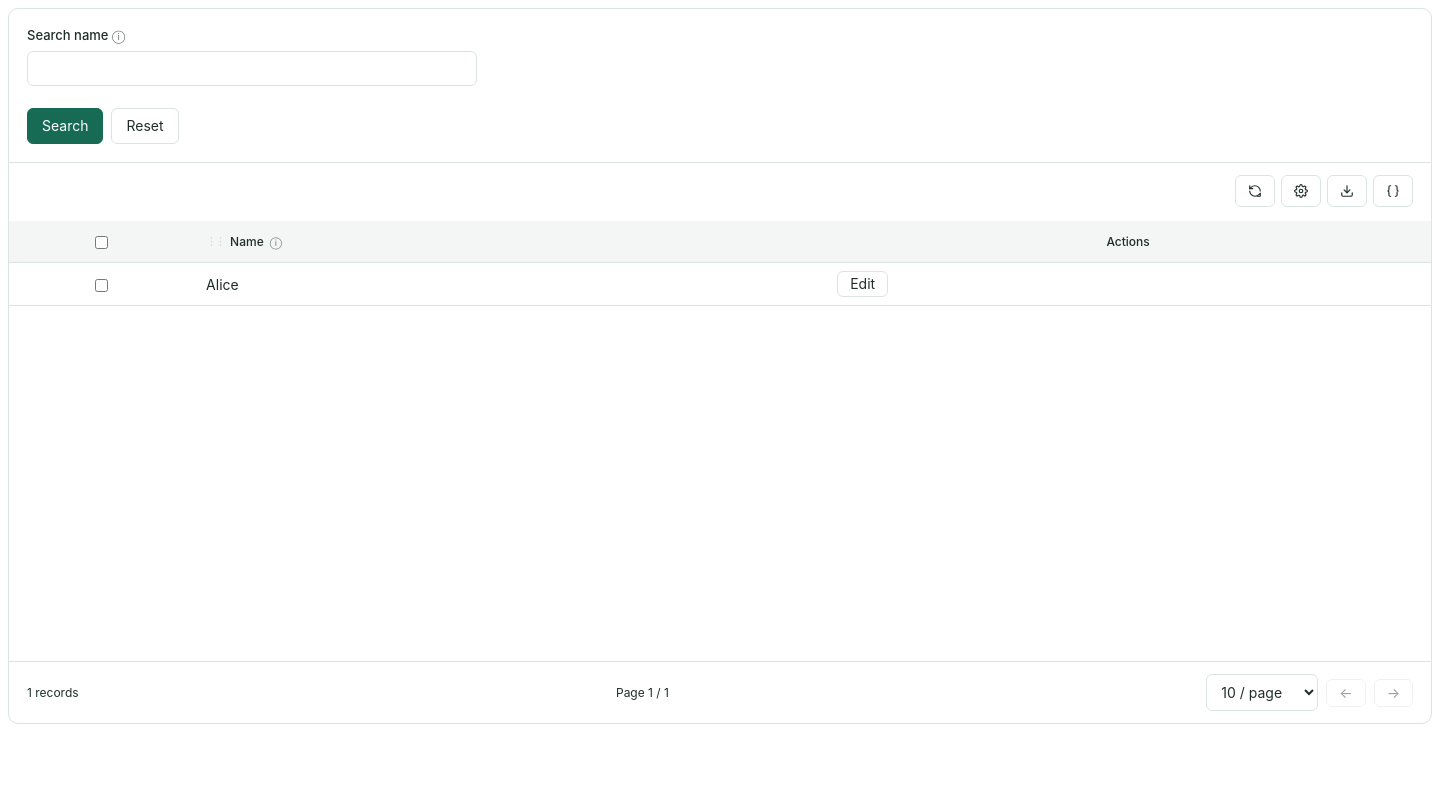
Test: table edit uses built-in help when only form defaults are configured
Click the button with aria-label "Edit row 1": point(863, 284) [837,271,888,297]
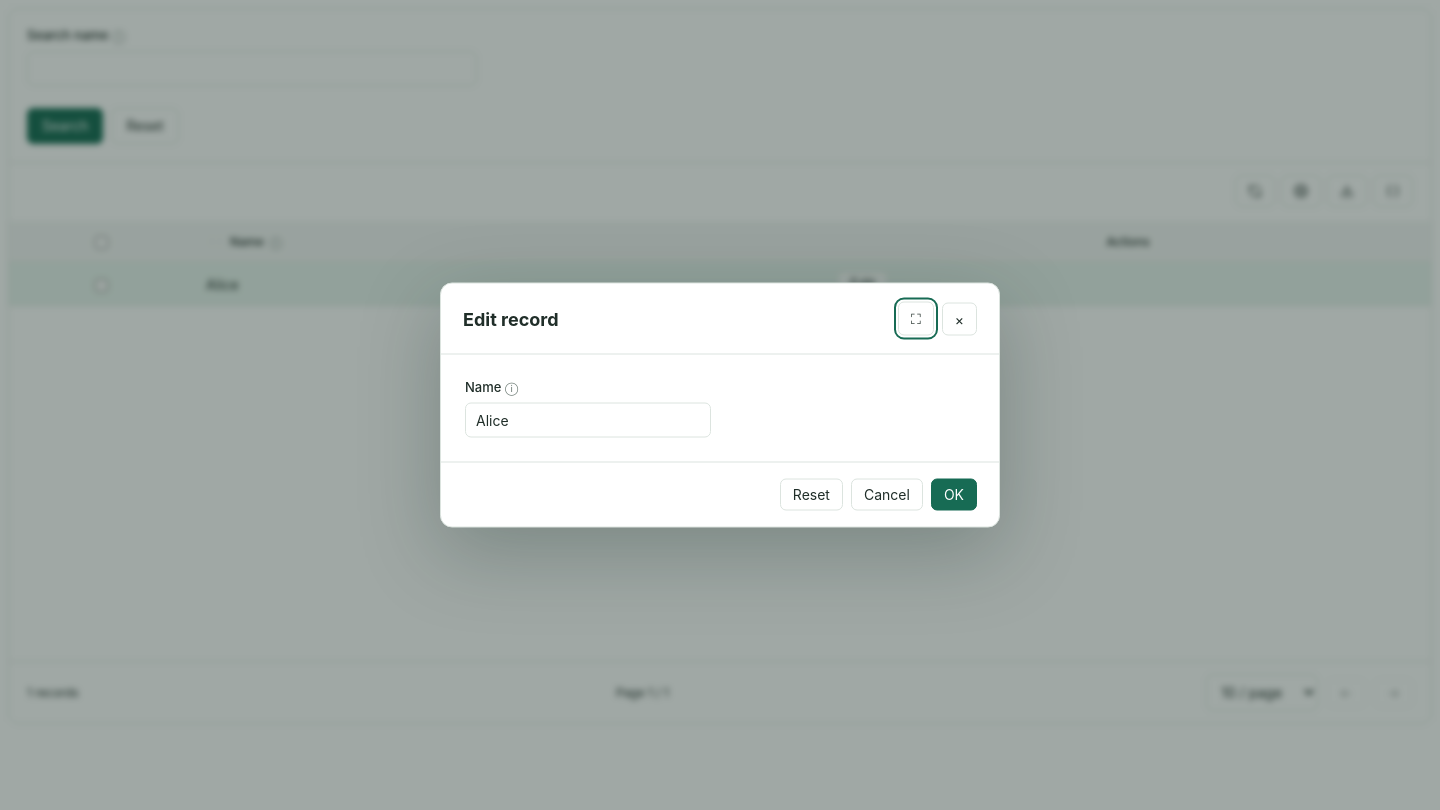
Check: the field labelled "Name" holds "Alice", box [465,402,711,438]
Hover over the label "Name ⓘ": point(492, 386) [465,378,518,394]
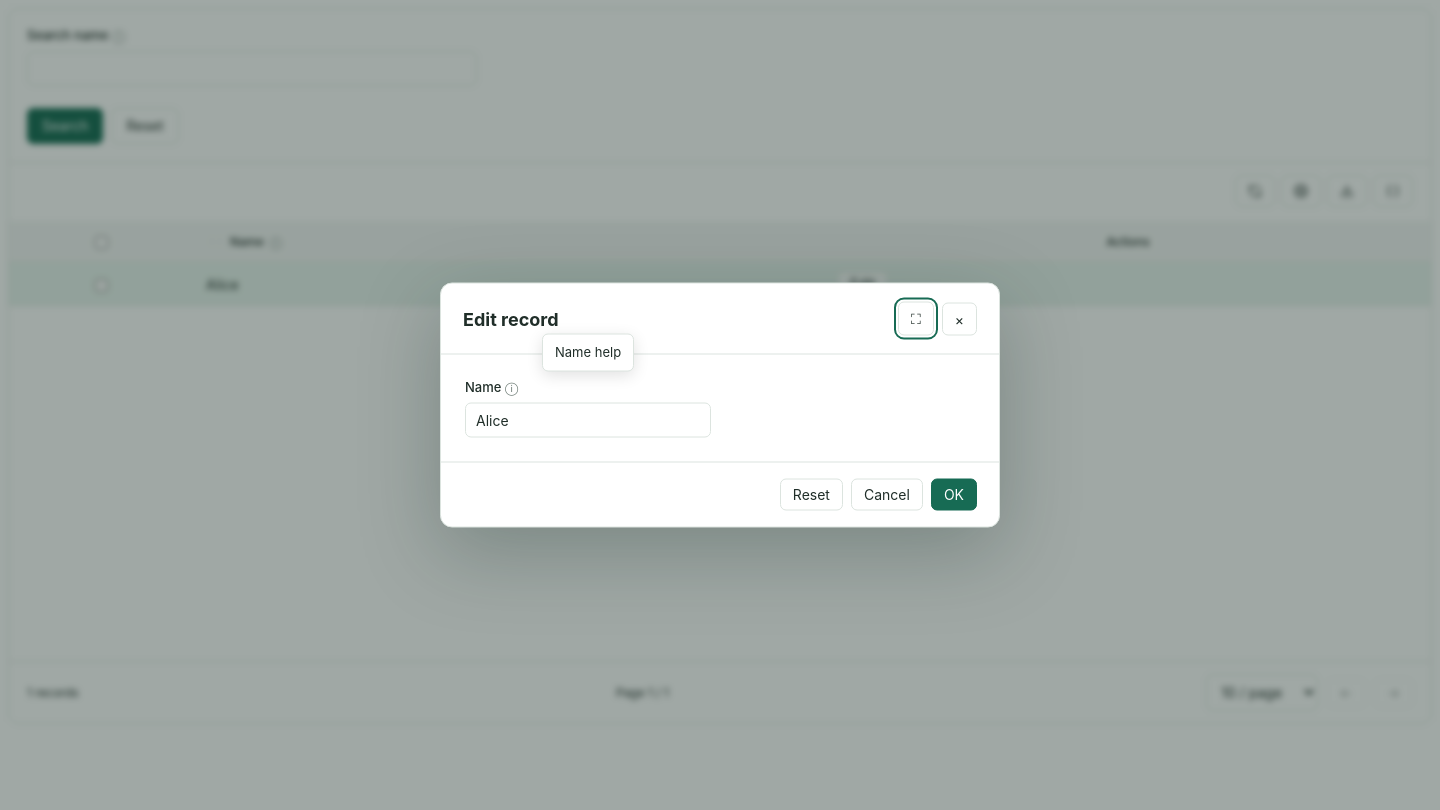
Check: the tooltip reads "Name help", box [555,344,621,360]
